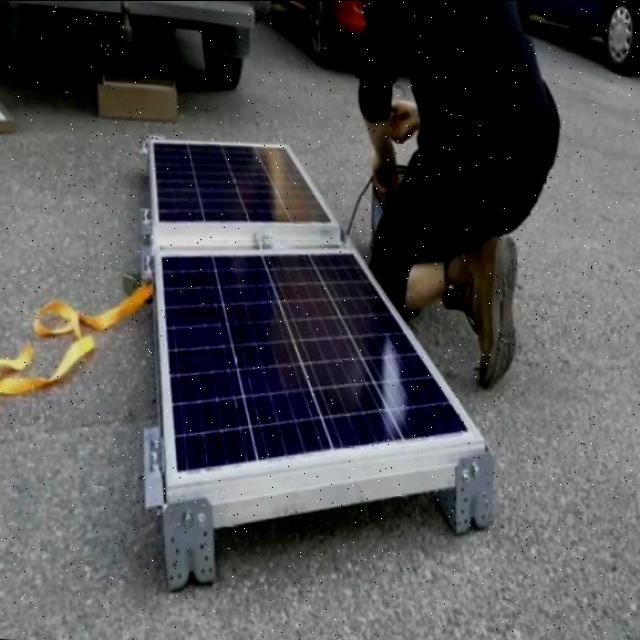Normal Solar Panel: (146, 231, 494, 508), (152, 133, 344, 237)
